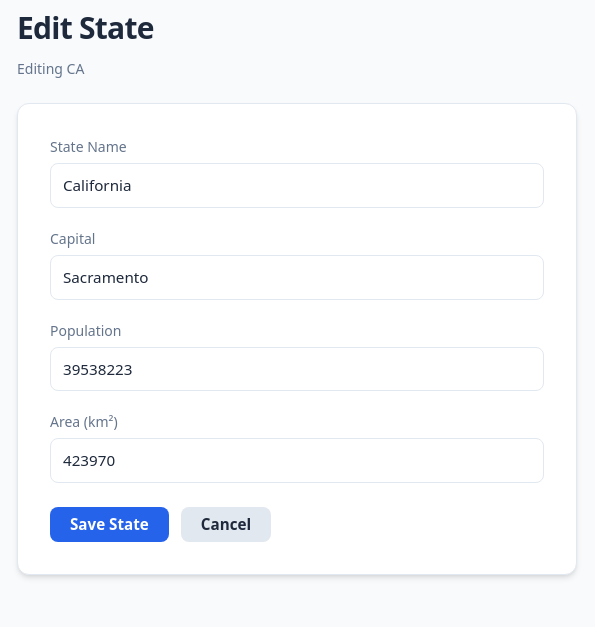
it: shows validation errors for invalid state edits
Clear the number field labelled "Population" at x=297, y=369, box [50,347,544,391]
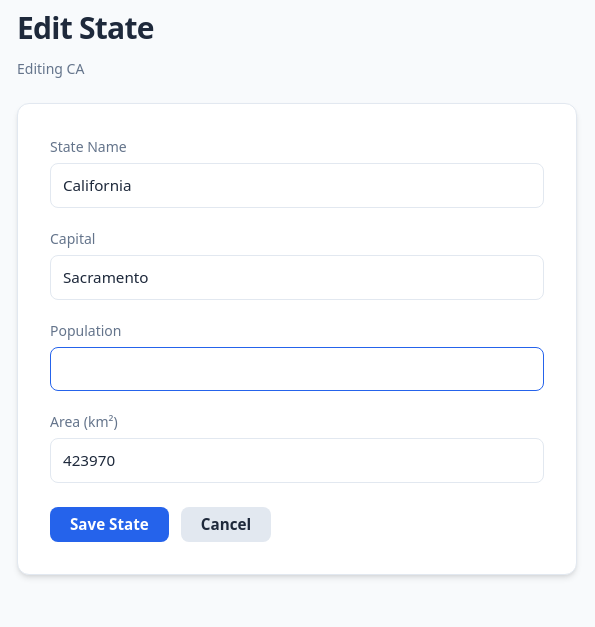
Click the button "Save State" at x=109, y=525, box [50,507,169,542]
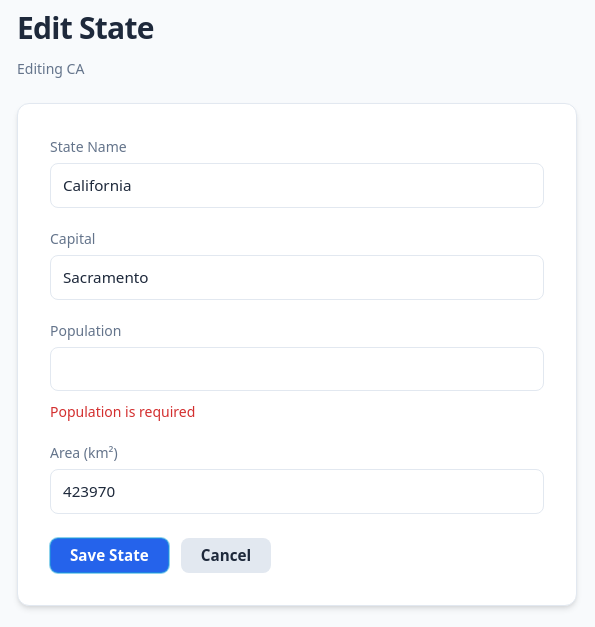
Result: the text "Population is required" is shown at [50,402,195,421]
